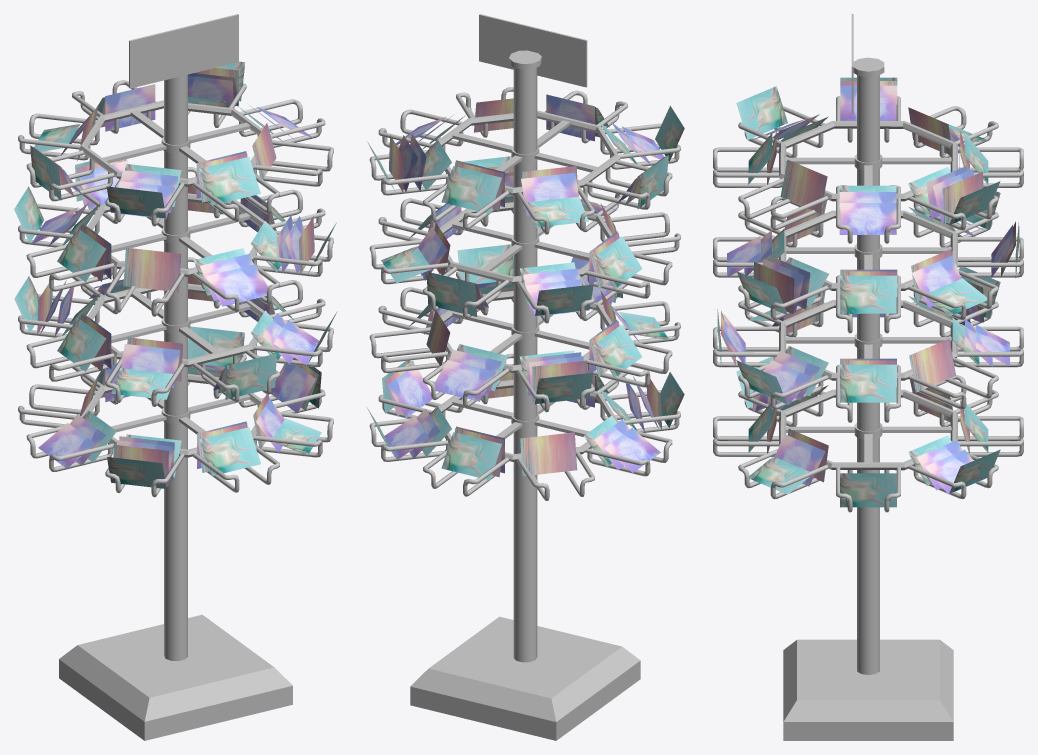
Rendered from SM_PorteCarte.fbx.
3 renders of one model, left to right at view 1: azimuth 30°, elevation 25°; view 2: azimuth 150°, elevation 25°; view 3: azimuth 270°, elevation 25°, orthographic.
Parts seen in each view (by area): view 1: pasted__pCube187, pasted__pCylinder19, pasted__pPlane28, pasted__pPlane153, pasted__pPlane113, pasted__pPlane75, pasted__pTorus17, pasted__pPlane146, pasted__pPlane88, pasted__polySurface200, pasted__pTorus13, pasted__pPlane93 (+51 smaller); view 2: pasted__pCube187, pasted__pCylinder19, pasted__pPlane28, pasted__pPlane100, pasted__pTorus17, pasted__pPlane129, pasted__pPlane77, pasted__pPlane56, pasted__pPlane133, pasted__polySurface182, pasted__pPlane66, pasted__pTorus15 (+50 smaller); view 3: pasted__pCube187, pasted__pCylinder19, pasted__pPlane136, pasted__pPlane86, pasted__pTorus11, pasted__pTorus17, pasted__pPlane87, pasted__pPlane72, pasted__pPlane57, pasted__pPlane81, pasted__pPlane110, pasted__pTorus13 (+58 smaller).
Boxes of the visible parts, left/top/right/bottom form: pasted__pCube187: left=59, top=614, right=292, bottom=740; pasted__pCylinder19: left=164, top=74, right=187, bottom=661; pasted__pPlane28: left=129, top=14, right=238, bottom=88; pasted__pPlane153: left=123, top=247, right=181, bottom=292; pasted__pPlane113: left=199, top=427, right=260, bottom=475; pasted__pPlane75: left=199, top=157, right=260, bottom=205; pasted__pTorus17: left=79, top=100, right=272, bottom=186; pasted__pPlane146: left=205, top=264, right=271, bottom=306; pasted__pPlane88: left=225, top=353, right=276, bottom=399; pasted__polySurface200: left=253, top=140, right=333, bottom=186; pasted__pTorus13: left=87, top=283, right=271, bottom=367; pasted__pPlane93: left=121, top=344, right=180, bottom=388; pasted__pCube187: left=410, top=616, right=640, bottom=740; pasted__pCylinder19: left=509, top=50, right=541, bottom=662; pasted__pPlane28: left=479, top=14, right=587, bottom=87; pasted__pPlane100: left=520, top=432, right=577, bottom=476; pasted__pTorus17: left=431, top=110, right=620, bottom=195; pasted__pPlane129: left=441, top=432, right=501, bottom=480; pasted__pPlane77: left=441, top=166, right=501, bottom=213; pasted__pPlane56: left=431, top=360, right=495, bottom=401; pasted__pPlane133: left=426, top=271, right=477, bottom=316; pasted__polySurface182: left=369, top=327, right=449, bottom=373; pasted__pPlane66: left=521, top=172, right=579, bottom=216; pasted__pTorus15: left=439, top=202, right=612, bottom=284; pasted__pCube187: left=783, top=639, right=953, bottom=740; pasted__pCylinder19: left=853, top=57, right=884, bottom=674; pasted__pPlane136: left=840, top=275, right=897, bottom=313; pasted__pPlane86: left=840, top=364, right=896, bottom=402; pasted__pTorus11: left=779, top=389, right=957, bottom=470; pasted__pTorus17: left=779, top=121, right=957, bottom=201; pasted__pPlane87: left=840, top=473, right=896, bottom=507; pasted__pPlane72: left=839, top=203, right=896, bottom=234; pasted__pPlane57: left=736, top=86, right=787, bottom=139; pasted__pPlane81: left=780, top=159, right=827, bottom=213; pasted__pPlane110: left=909, top=339, right=955, bottom=392; pasted__pTorus13: left=779, top=300, right=957, bottom=380.
Bounding box in the file's own units: 75.12 × 177 × 75.12.
